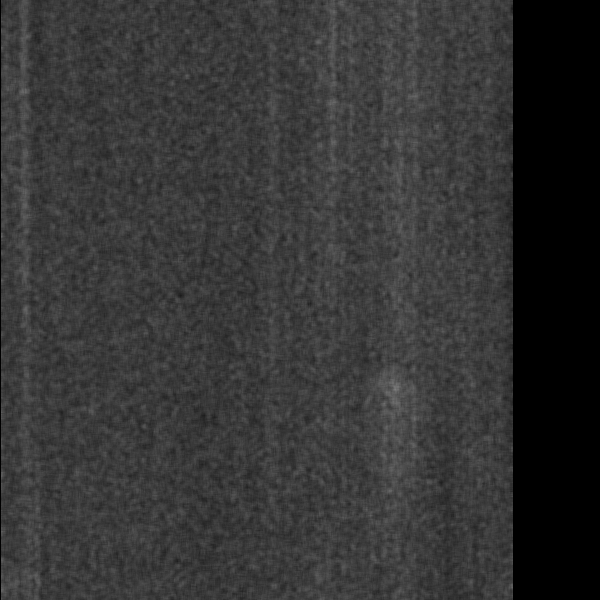spark: (382, 369, 411, 430)
